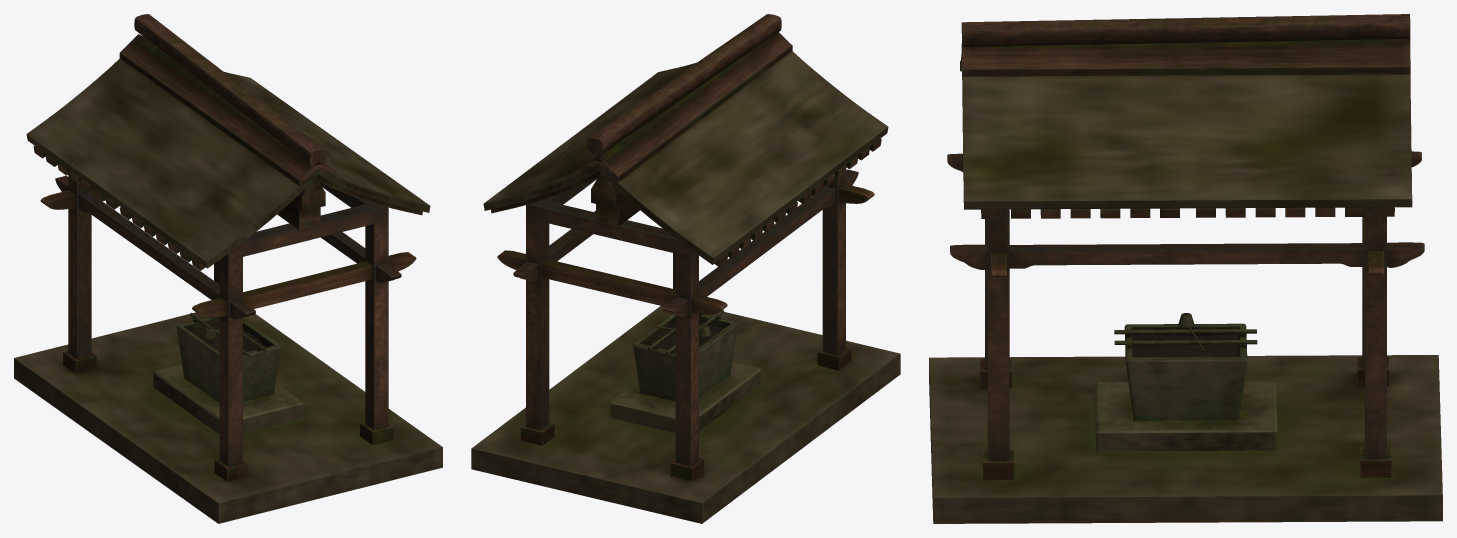
File: Chozuya.gltf
The picture shows the model from 3 angles, left to right: view 1: azimuth 30°, elevation 25°; view 2: azimuth 150°, elevation 25°; view 3: azimuth 270°, elevation 25°; orthographic projection. The views are drawn at different scales.
Visible parts, largest first — view 1: Shrine_Water_Base.001_Shrine_Water_Base_0.002, Shrine_Water_Roof.001_Shrine_Water_Roof_0.002, Shrine_Water_Pillars.001_Shrine_Water_Pillars_0.002, Shrine_Water_Top_002.001_Shrine_Water_Top_002_0.002, Shrine_Water_Top_001.001_Shrine_Water_Top_001_0.002, Shrine_Water_Water_Box.001_Shrine_Water_Water_Box_0.002, Shrine_Water_Design_002.001_Shrine_Water_Design_002_0.002, Shrine_Water_Design_001.001_Shrine_Water_Design_001_0.002, Shrine_Water_Water_Base.001_Shrine_Water_Water_Base_0.002, Shrine_Water_Roof_Base.001_Shrine_Water_Roof_Base_0.002, Shrine_Water_Roof_Wood.001_Shrine_Water_Roof_Wood_0.002, Shrine_Water_Small_Base.001_Shrine_Water_Small_Base_0.002 (+3 smaller); view 2: Shrine_Water_Base.001_Shrine_Water_Base_0.002, Shrine_Water_Roof.001_Shrine_Water_Roof_0.002, Shrine_Water_Pillars.001_Shrine_Water_Pillars_0.002, Shrine_Water_Top_002.001_Shrine_Water_Top_002_0.002, Shrine_Water_Top_001.001_Shrine_Water_Top_001_0.002, Shrine_Water_Water_Box.001_Shrine_Water_Water_Box_0.002, Shrine_Water_Design_002.001_Shrine_Water_Design_002_0.002, Shrine_Water_Design_001.001_Shrine_Water_Design_001_0.002, Shrine_Water_Water_Base.001_Shrine_Water_Water_Base_0.002, Shrine_Water_Roof_Base.001_Shrine_Water_Roof_Base_0.002, Shrine_Water_Roof_Wood.001_Shrine_Water_Roof_Wood_0.002, Shrine_Water_Small_Base.001_Shrine_Water_Small_Base_0.002 (+3 smaller); view 3: Shrine_Water_Base.001_Shrine_Water_Base_0.002, Shrine_Water_Roof.001_Shrine_Water_Roof_0.002, Shrine_Water_Top_002.001_Shrine_Water_Top_002_0.002, Shrine_Water_Top_001.001_Shrine_Water_Top_001_0.002, Shrine_Water_Pillars.001_Shrine_Water_Pillars_0.002, Shrine_Water_Water_Box.001_Shrine_Water_Water_Box_0.002, Shrine_Water_Design_002.001_Shrine_Water_Design_002_0.002, Shrine_Water_Water_Base.001_Shrine_Water_Water_Base_0.002, Shrine_Water_Roof_Wood.001_Shrine_Water_Roof_Wood_0.002, Shrine_Water_Small_Base.001_Shrine_Water_Small_Base_0.002, Shrine_Water_Water.001_Shrine_Water_Water_0.004, Shrine_Water_Design_001.001_Shrine_Water_Design_001_0.002 (+2 smaller).
Part boxes in pixels (x1,y1,x2,y2): Shrine_Water_Base.001_Shrine_Water_Base_0.002: (14,312,442,523); Shrine_Water_Roof.001_Shrine_Water_Roof_0.002: (26,58,430,268); Shrine_Water_Pillars.001_Shrine_Water_Pillars_0.002: (68,173,388,466); Shrine_Water_Top_002.001_Shrine_Water_Top_002_0.002: (119,34,336,185); Shrine_Water_Top_001.001_Shrine_Water_Top_001_0.002: (134,14,325,166); Shrine_Water_Water_Box.001_Shrine_Water_Water_Box_0.002: (176,317,281,402); Shrine_Water_Design_002.001_Shrine_Water_Design_002_0.002: (55,176,401,319); Shrine_Water_Design_001.001_Shrine_Water_Design_001_0.002: (40,190,416,317); Shrine_Water_Water_Base.001_Shrine_Water_Water_Base_0.002: (153,364,303,434); Shrine_Water_Roof_Base.001_Shrine_Water_Roof_Base_0.002: (224,181,388,259); Shrine_Water_Roof_Wood.001_Shrine_Water_Roof_Wood_0.002: (33,145,422,270); Shrine_Water_Small_Base.001_Shrine_Water_Small_Base_0.002: (63,351,393,481); Shrine_Water_Base.001_Shrine_Water_Base_0.002: (471,306,900,523); Shrine_Water_Roof.001_Shrine_Water_Roof_0.002: (483,51,888,264); Shrine_Water_Pillars.001_Shrine_Water_Pillars_0.002: (526,172,845,465); Shrine_Water_Top_002.001_Shrine_Water_Top_002_0.002: (579,32,792,182); Shrine_Water_Top_001.001_Shrine_Water_Top_001_0.002: (586,14,781,154); Shrine_Water_Water_Box.001_Shrine_Water_Water_Box_0.002: (633,314,737,402); Shrine_Water_Design_002.001_Shrine_Water_Design_002_0.002: (513,169,858,316); Shrine_Water_Design_001.001_Shrine_Water_Design_001_0.002: (497,184,874,314); Shrine_Water_Water_Base.001_Shrine_Water_Water_Base_0.002: (610,361,761,433); Shrine_Water_Roof_Base.001_Shrine_Water_Roof_Base_0.002: (526,177,694,256); Shrine_Water_Roof_Wood.001_Shrine_Water_Roof_Wood_0.002: (491,138,881,267); Shrine_Water_Small_Base.001_Shrine_Water_Small_Base_0.002: (520,314,851,481); Shrine_Water_Base.001_Shrine_Water_Base_0.002: (929,355,1442,523); Shrine_Water_Roof.001_Shrine_Water_Roof_0.002: (960,48,1412,209); Shrine_Water_Top_002.001_Shrine_Water_Top_002_0.002: (961,39,1410,76); Shrine_Water_Top_001.001_Shrine_Water_Top_001_0.002: (961,14,1410,46); Shrine_Water_Pillars.001_Shrine_Water_Pillars_0.002: (985,207,1386,460); Shrine_Water_Water_Box.001_Shrine_Water_Water_Box_0.002: (1124,323,1247,421); Shrine_Water_Design_002.001_Shrine_Water_Design_002_0.002: (947,151,1424,269); Shrine_Water_Water_Base.001_Shrine_Water_Water_Base_0.002: (1094,381,1277,451); Shrine_Water_Roof_Wood.001_Shrine_Water_Roof_Wood_0.002: (981,207,1394,218); Shrine_Water_Small_Base.001_Shrine_Water_Small_Base_0.002: (980,356,1391,479); Shrine_Water_Water.001_Shrine_Water_Water_0.004: (1132,334,1238,357); Shrine_Water_Design_001.001_Shrine_Water_Design_001_0.002: (991,251,1384,278).
Size of the model in its own units: 2.93 by 4.17 by 4.44.
Materials: 19 (18 with a texture image).
